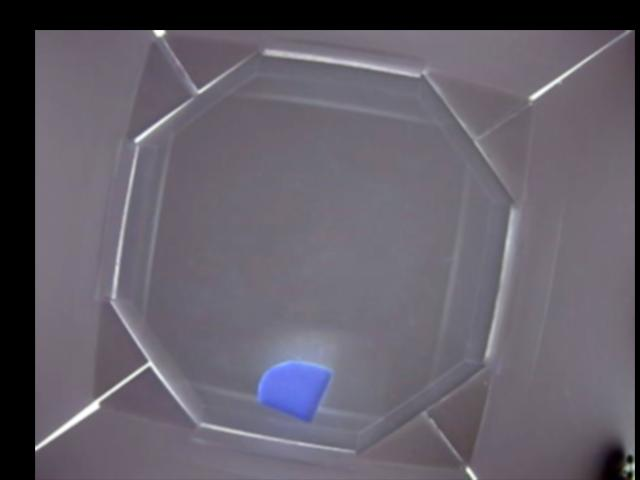Potato: (256, 359, 332, 419)
